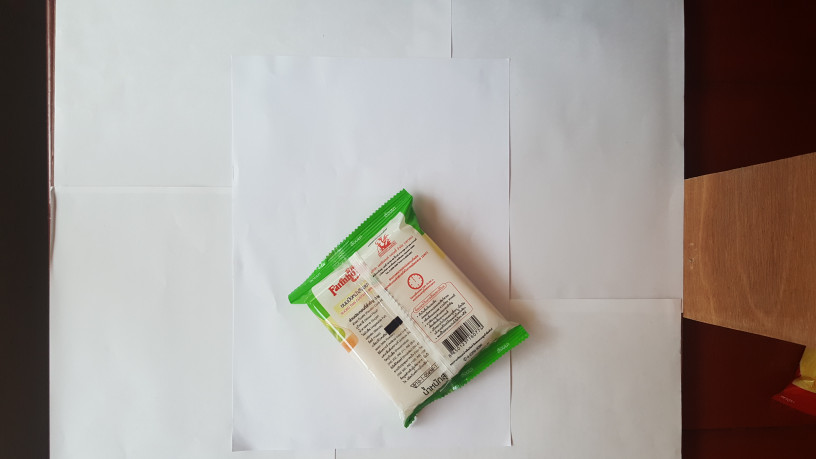farmhouse-bread-pandan: (286, 188, 534, 429)
